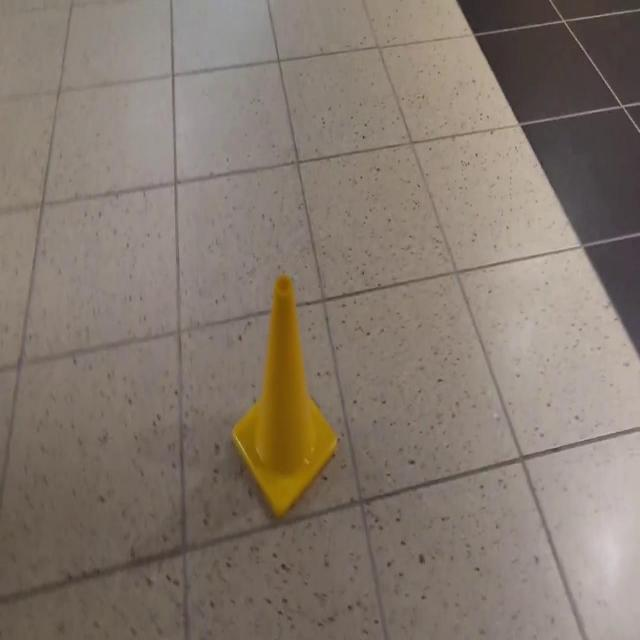frc_cone: (232, 274, 338, 518)
